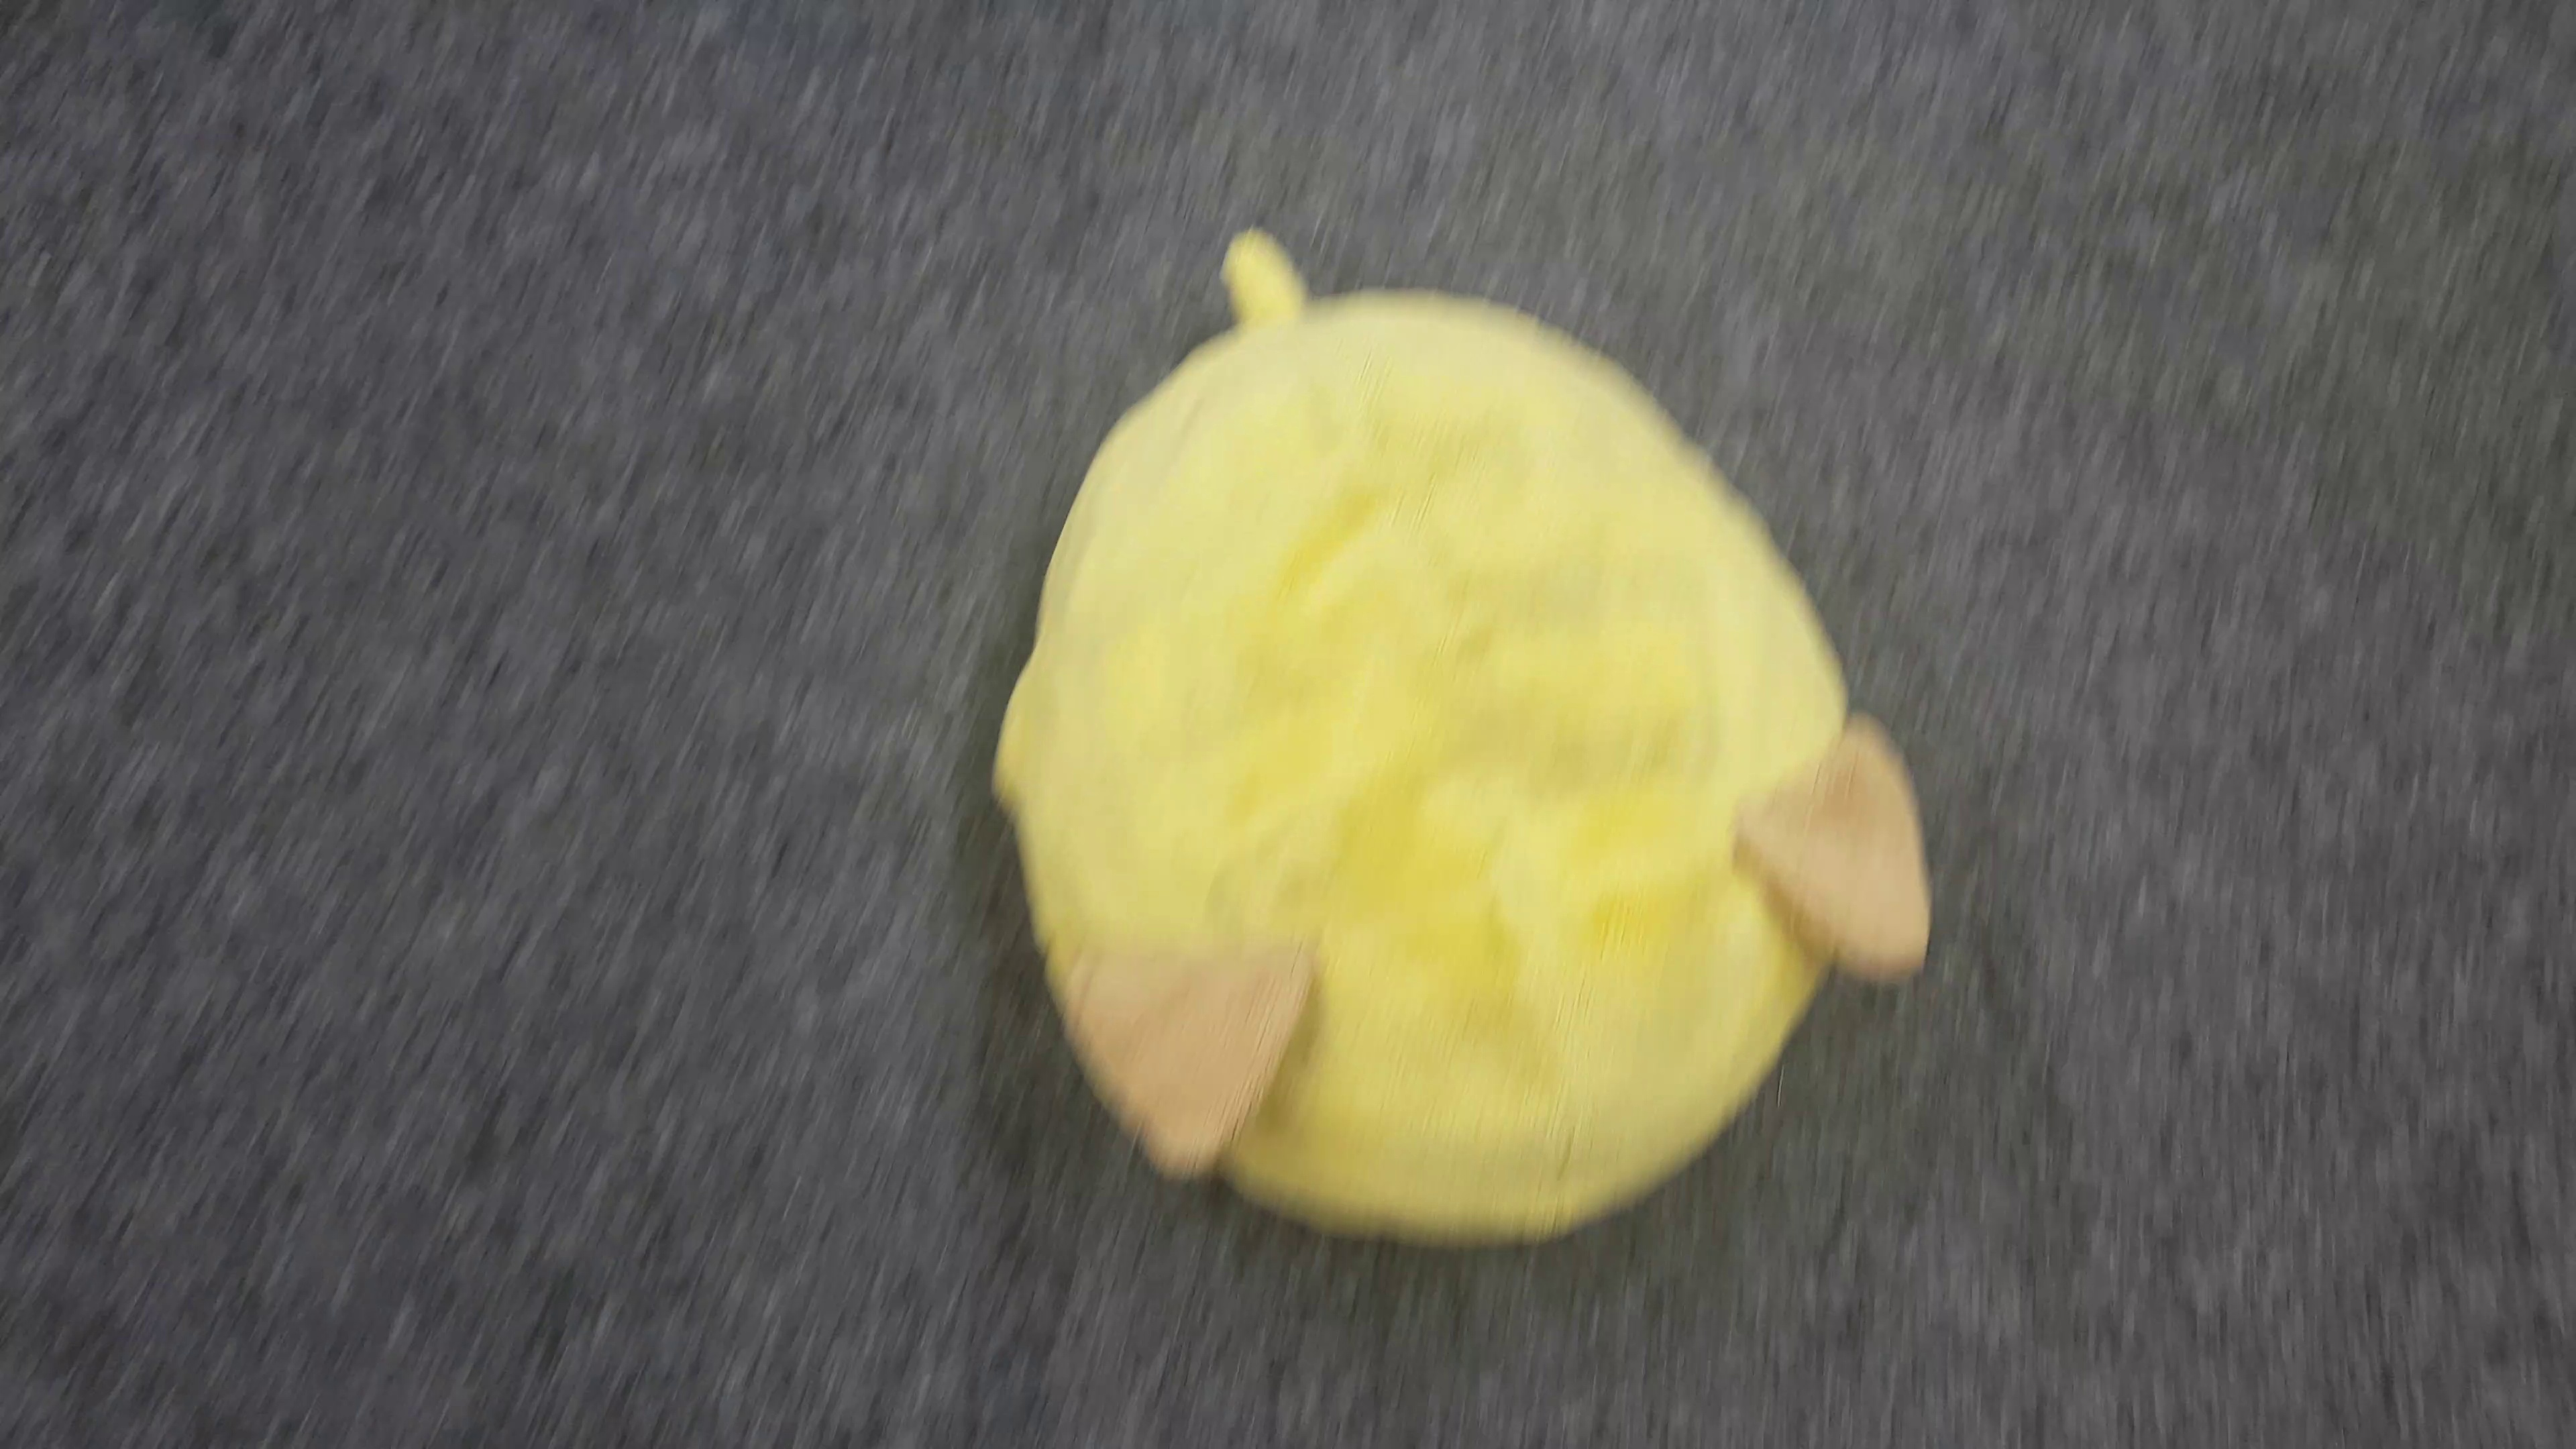grasp: (998, 221, 1937, 1251)
